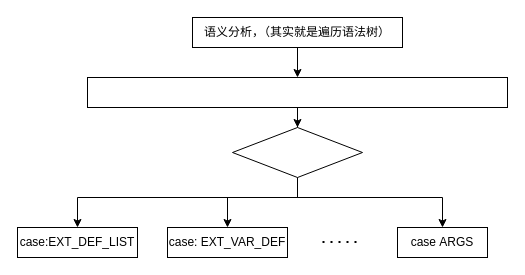
Image size: 525x275. Some labels were removed from this diagram. The shapes that lost their labels are listed below. From the top down, each one's centre as x and y in pixels, then its label:
At point 297,92: "semantic_Analysis(struct node* T,int type,int level,char flag,int command)".
At point 297,152: "switch T->kind".
